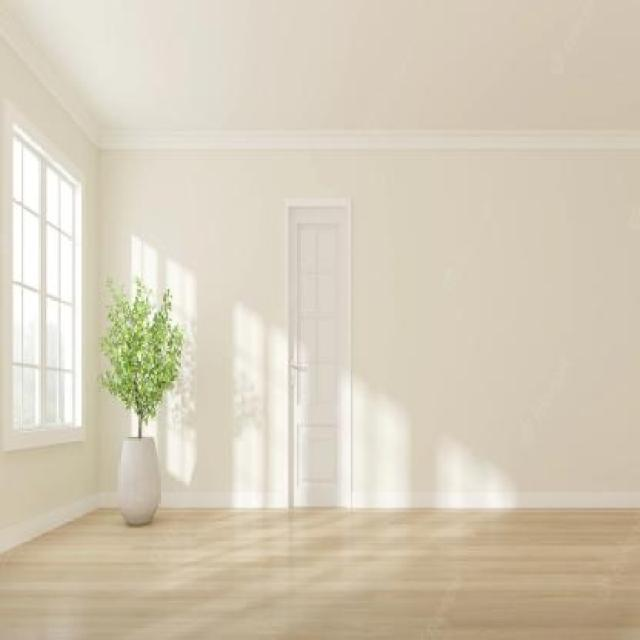floor: (0, 506, 640, 640)
